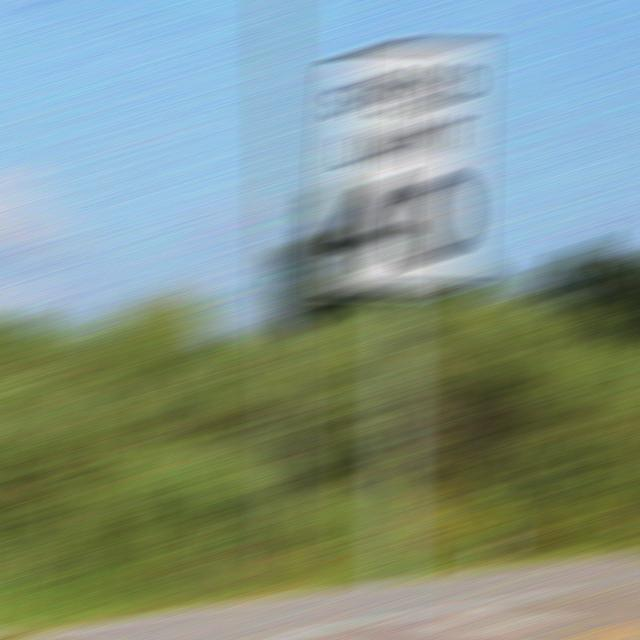speedLimit40: (319, 40, 483, 296)
